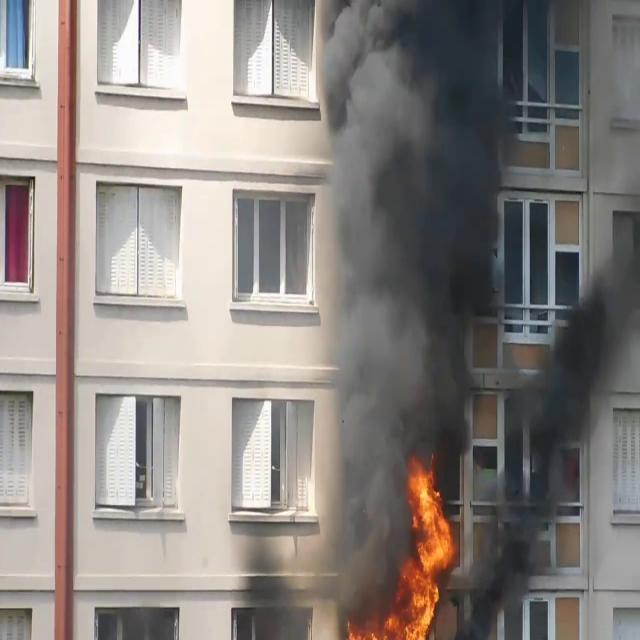Fire: (394, 456, 456, 636)
Smoke: (297, 0, 525, 558), (518, 227, 640, 492)
